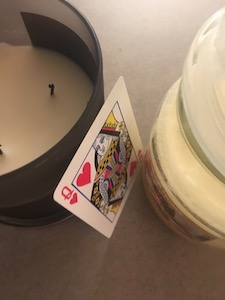QueenOfHearts: (48, 72, 147, 244)
